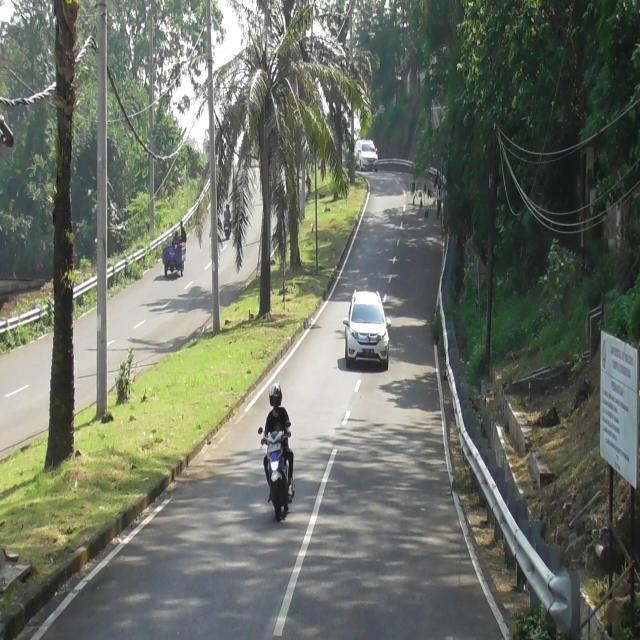motorcycle: (260, 430, 294, 516)
person: (264, 383, 290, 443)
rider_region: (262, 378, 294, 521)
